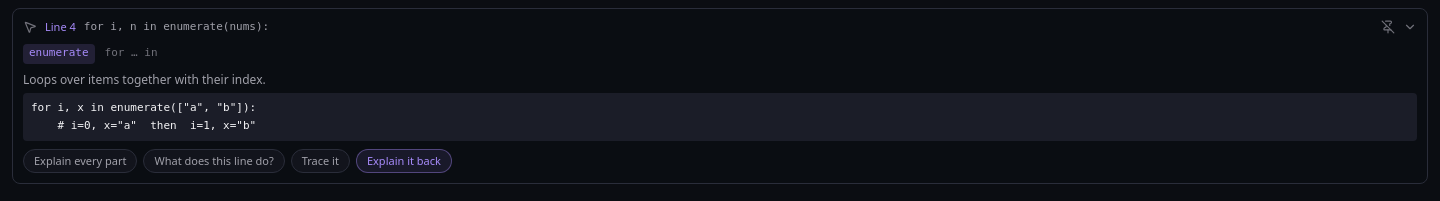
Test: LineInsight › switches between reference entries
Expected: the text "Loops over items together with their index." is shown, x1=23 y1=70 x2=266 y2=88
Click the tab "for … in": coordinates (131, 54) x1=99 y1=44 x2=164 y2=64
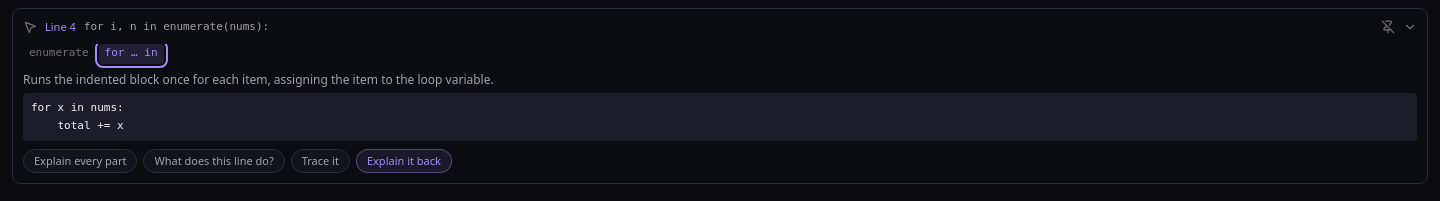
Expected: the text "Runs the indented block once for each item" is shown, x1=23 y1=70 x2=494 y2=88
